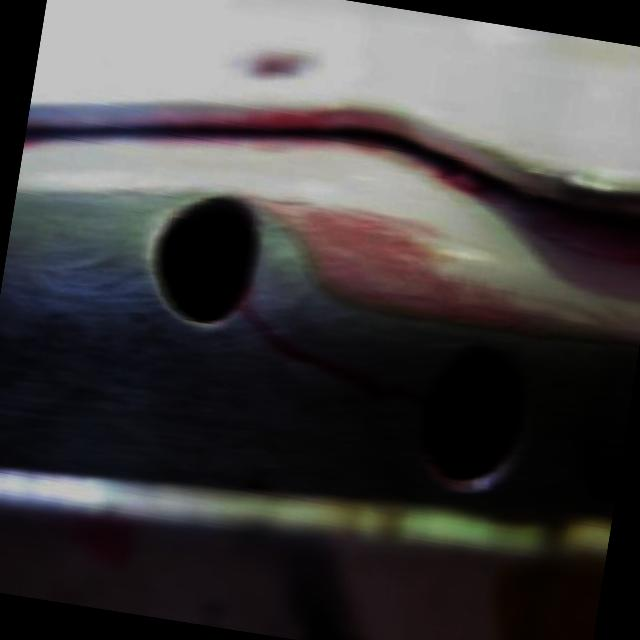crack: (234, 299, 285, 340), (328, 366, 384, 396), (274, 342, 336, 368), (372, 380, 430, 406)
